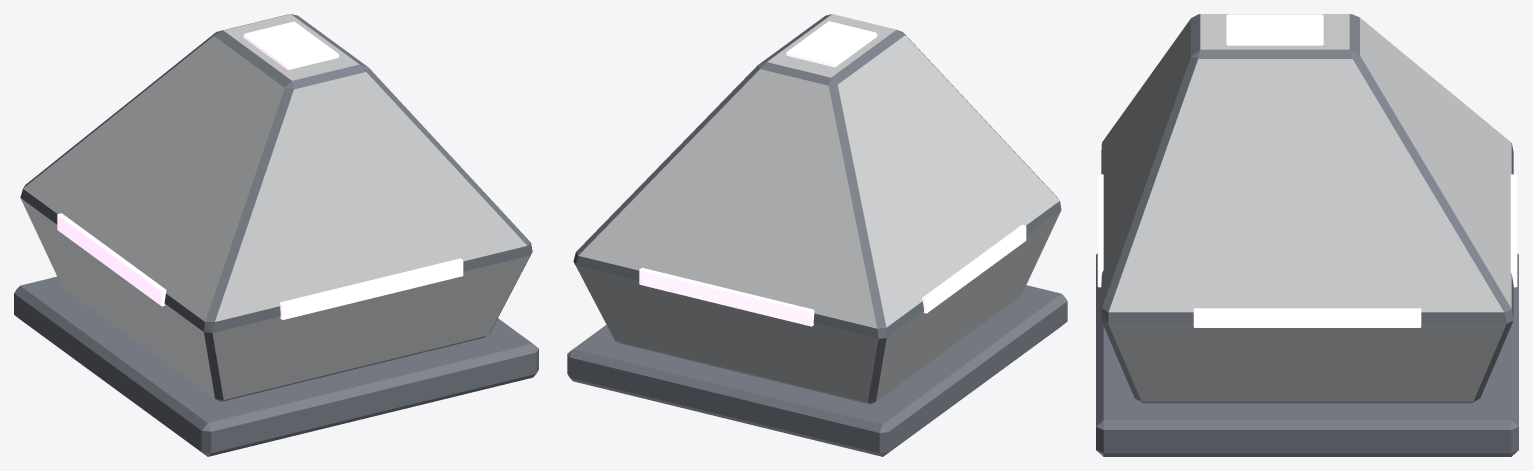
The model's file is R4X_Stealth_LOD1.fbx.
The picture shows the model from 3 angles, left to right: view 1: azimuth 30°, elevation 25°; view 2: azimuth 150°, elevation 25°; view 3: azimuth 270°, elevation 25°; orthographic projection. The views are drawn at different scales.
Parts seen in each view (by area): view 1: R4X_Stealth_LOD1; view 2: R4X_Stealth_LOD1; view 3: R4X_Stealth_LOD1.
Boxes of the visible parts, bbox=[...] form: R4X_Stealth_LOD1: bbox=[14, 14, 538, 456]; R4X_Stealth_LOD1: bbox=[567, 14, 1067, 456]; R4X_Stealth_LOD1: bbox=[1096, 14, 1518, 456].
Size of the model in its own units: 0.52 by 0.466 by 0.52.
